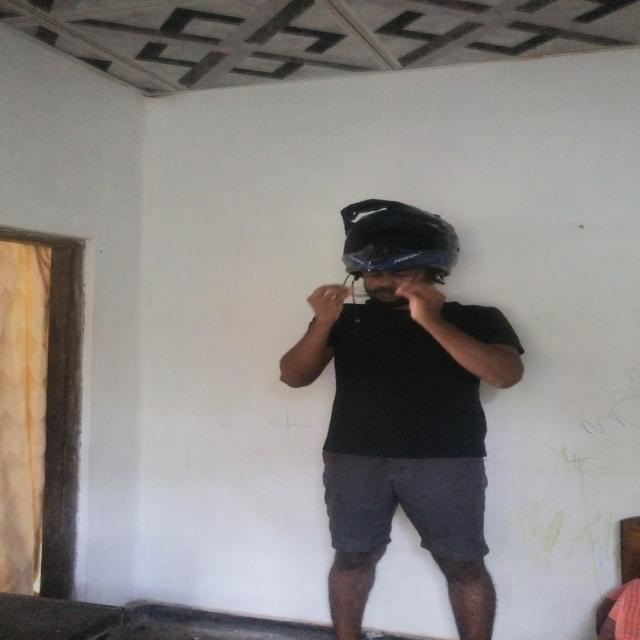Helmet_Wearer: (320, 198, 484, 324)
Person: (284, 239, 528, 640)
